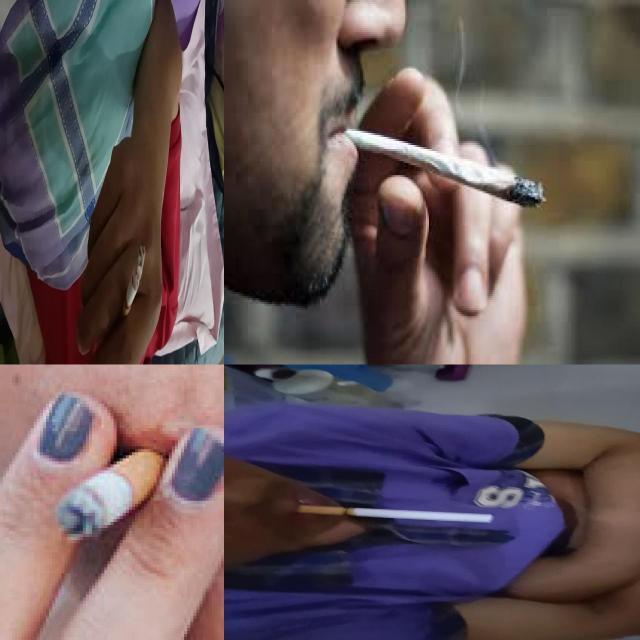smoke: (346, 128, 546, 209), (57, 447, 167, 539), (296, 505, 497, 523), (120, 243, 146, 324)
